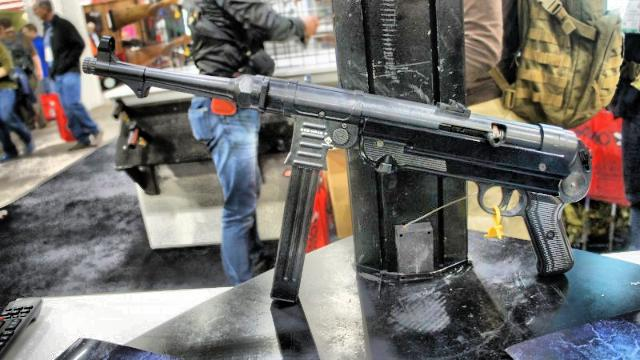pistol: (78, 49, 602, 318)
